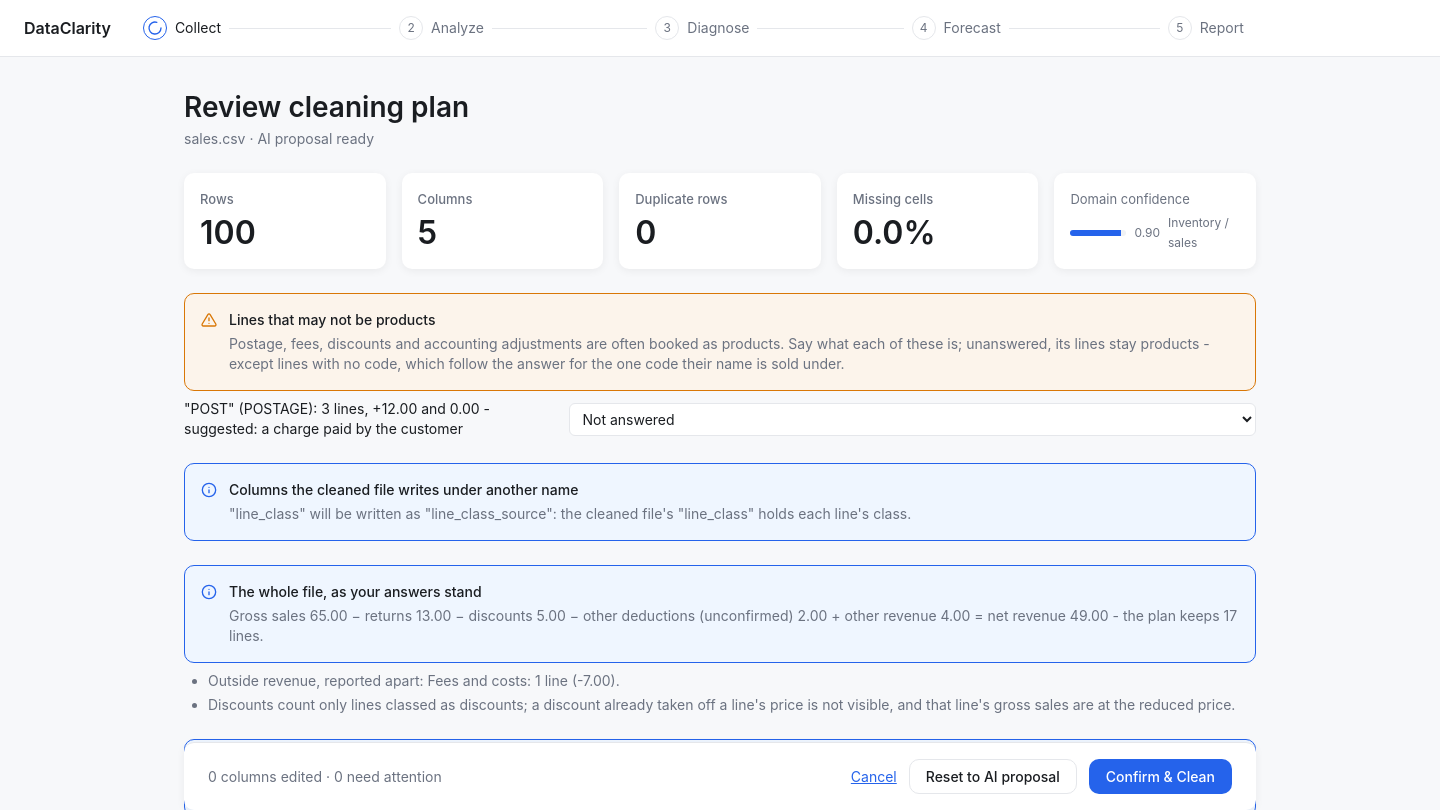
ReviewPage: the whole file as the answers stand (2E-t3) › says why there is no summary yet
This screenshot has width=1440, height=810.
Expected: the text "= net revenue 49.00" is shown, [229, 607, 1109, 624]
Step 1. Select "A fee or cost (leaves revenue)" in the dropdown named "What is \"POST\"?" → (913, 419), box [570, 402, 1256, 436]
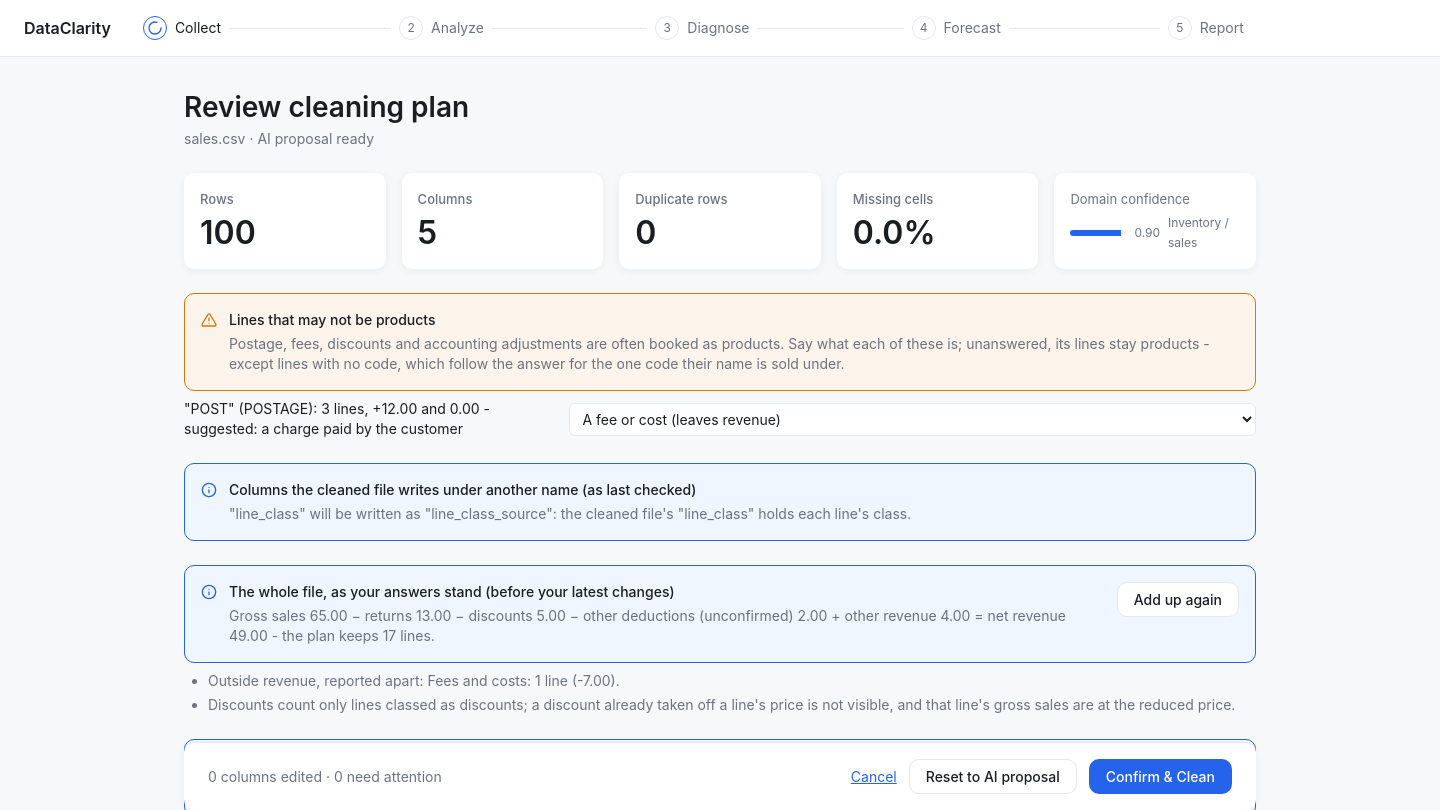
Step 2. Click the button "Add up again" → (1178, 600), box [1117, 582, 1239, 617]
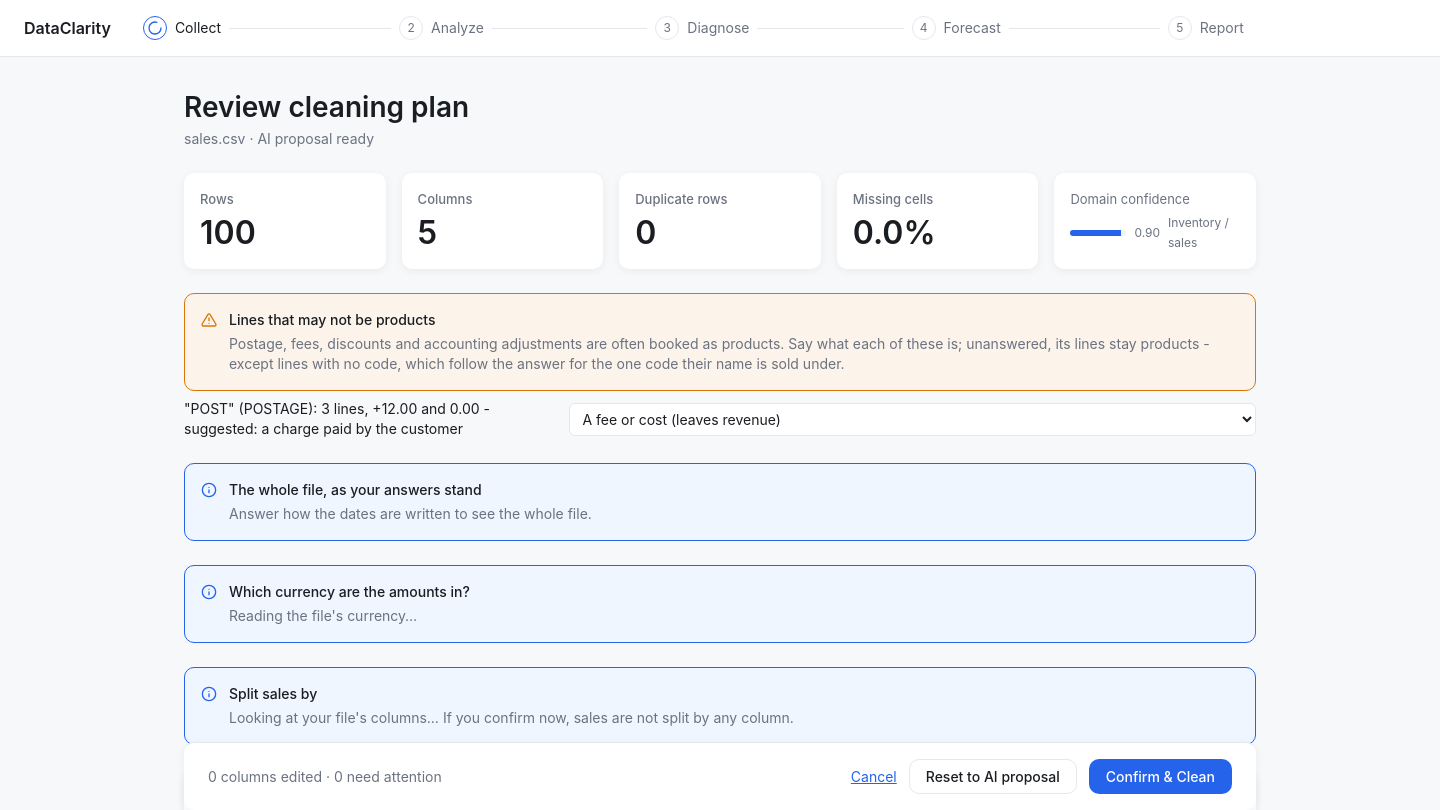
Now the text "Answer how the dates are written to see the whole file." is shown, box [229, 505, 592, 522]
